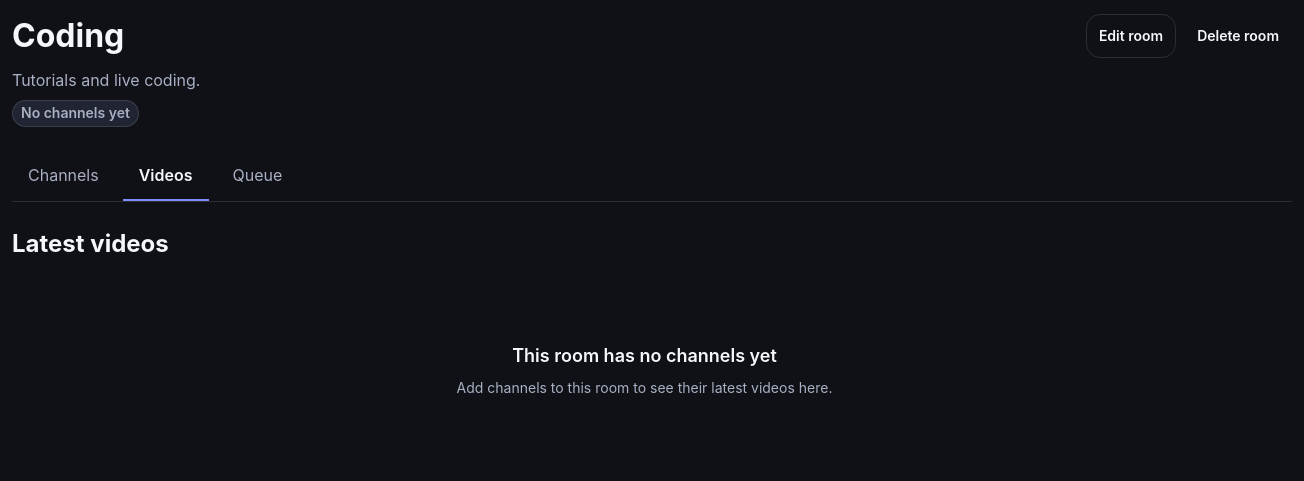
RoomDetailPage › switches sections when a tab is activated
Click the tab "Channels".
click(63, 176)  # box [12,151,115,201]
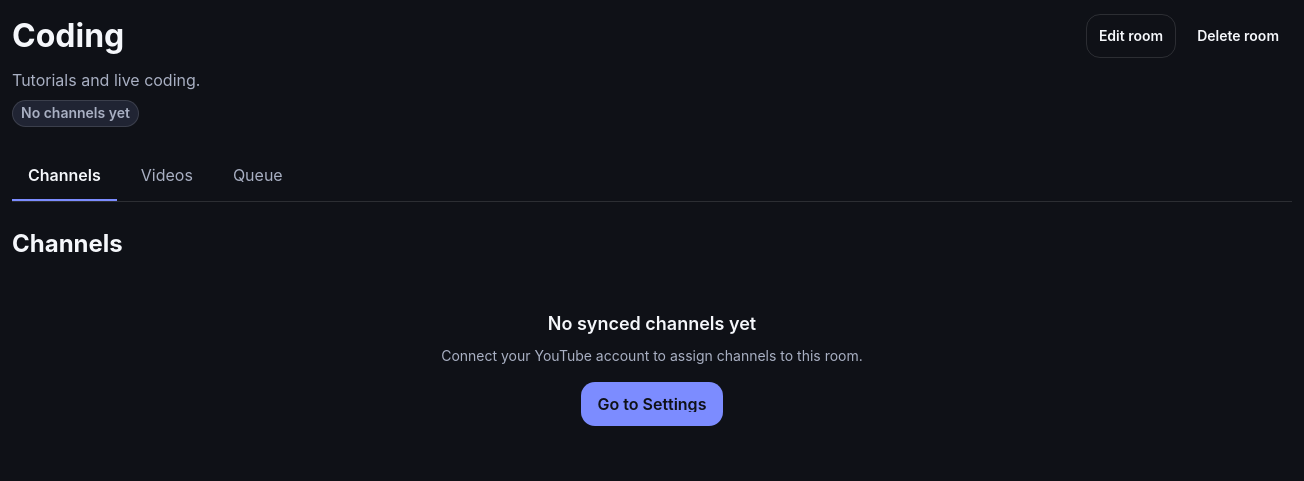
Result: the heading "Channels" is shown at [12,229,123,258]
Result: the heading "Latest videos" is gone
Click the tab "Queue".
click(258, 176)  # box [217,151,299,201]
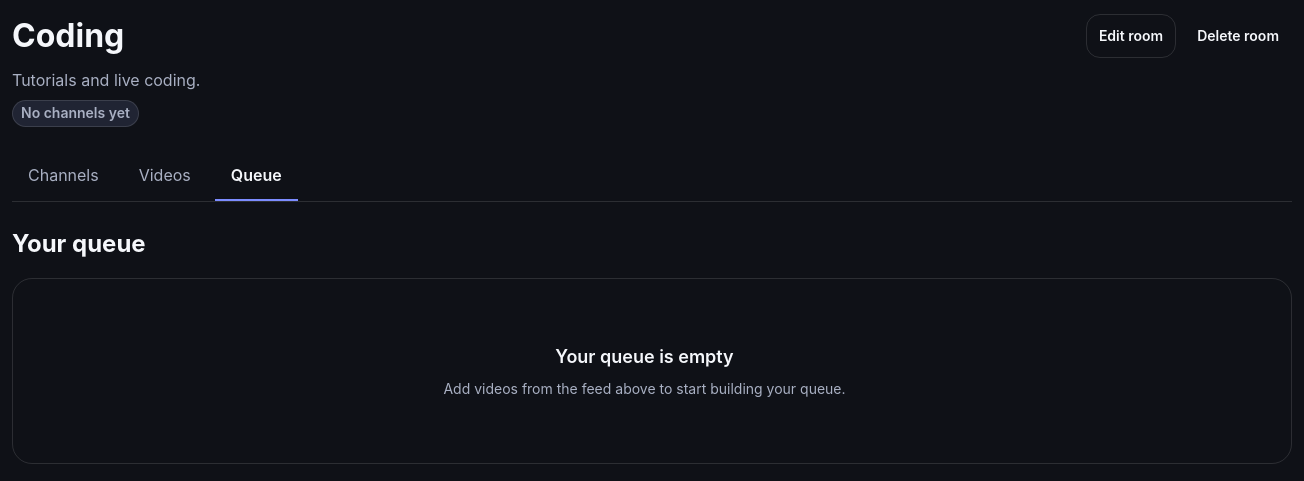
Result: the heading "Your queue" is shown at [12,229,146,258]
